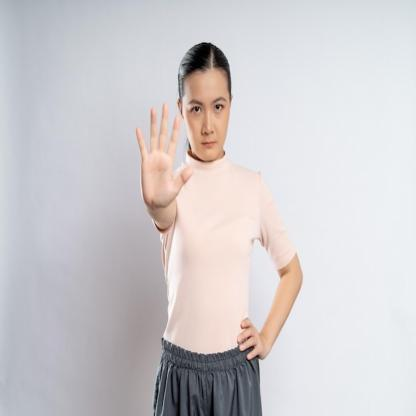stop: (133, 99, 195, 212)
